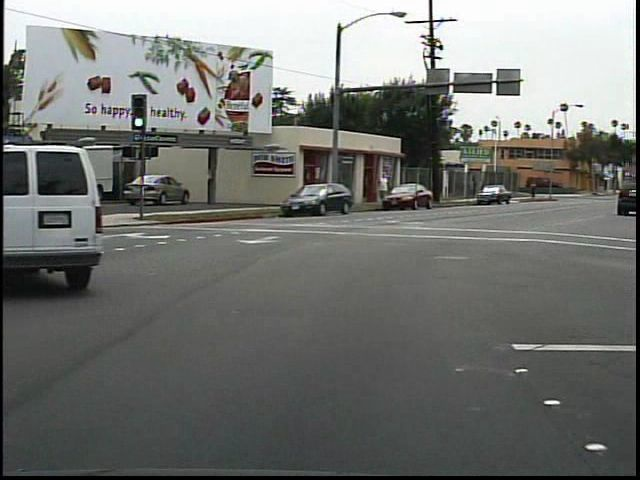person: (373, 167, 396, 210), (526, 178, 539, 202)
